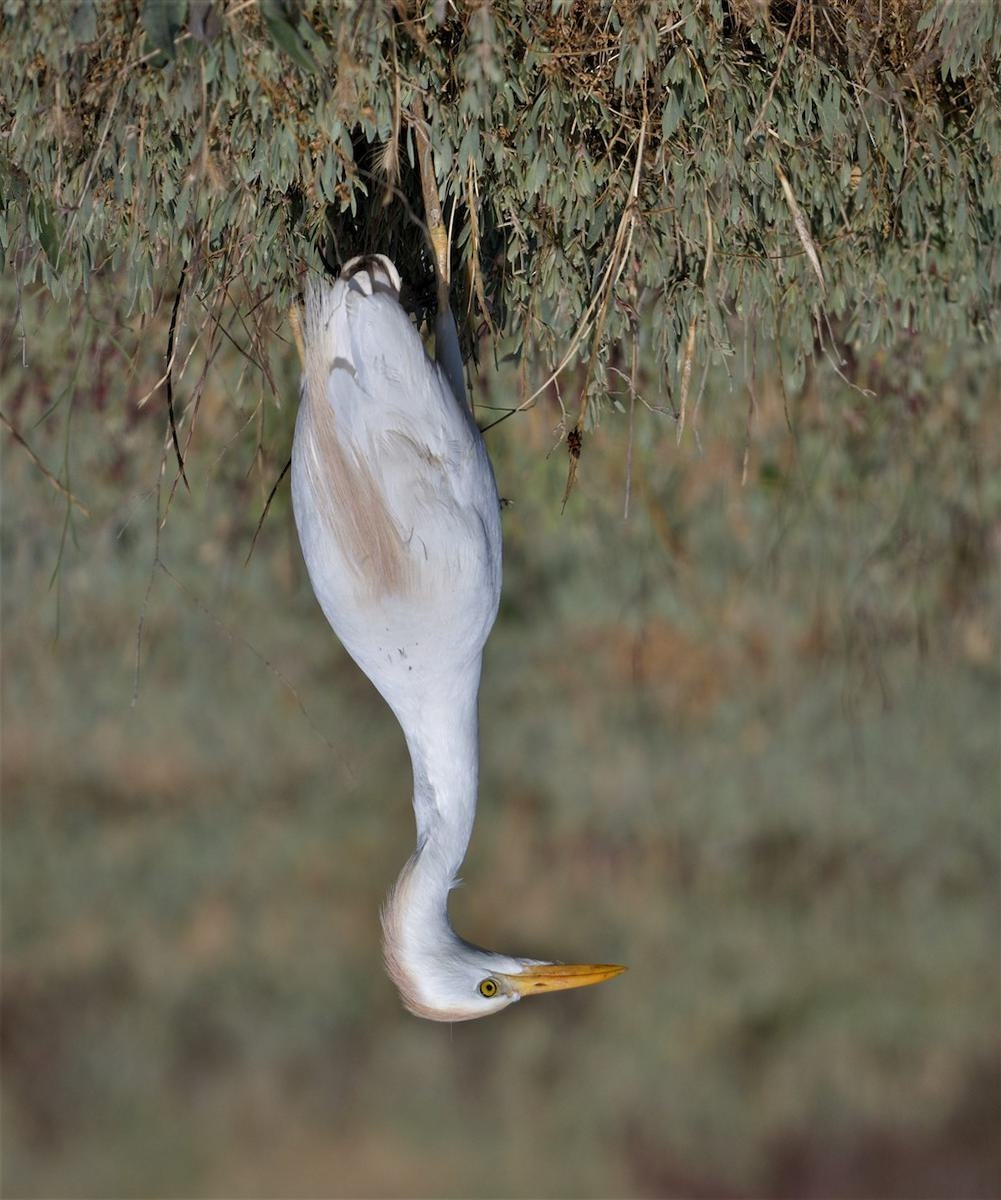egret: (232, 228, 643, 1067)
